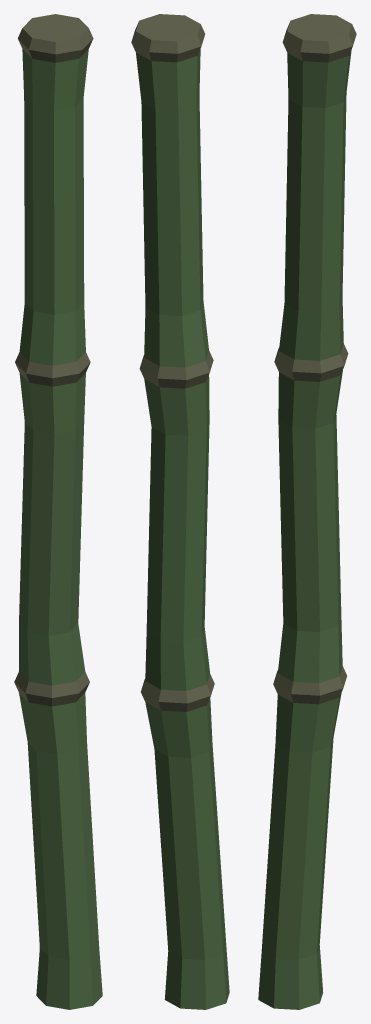
File: Bamboo_01_E.fbx
The picture shows the model from 3 angles, left to right: view 1: azimuth 90°, elevation 25°; view 2: azimuth 150°, elevation 25°; view 3: azimuth 330°, elevation 25°; orthographic projection.
Visible parts, largest first — view 1: Bamboo_01_E; view 2: Bamboo_01_E; view 3: Bamboo_01_E.
Boxes of the visible parts, x1,y1,x2,y2 form: Bamboo_01_E: (14,14,102,1009); Bamboo_01_E: (131,14,229,1009); Bamboo_01_E: (258,14,356,1009).
Bounding box in the file's own units: 7.13 × 78.38 × 6.57.
